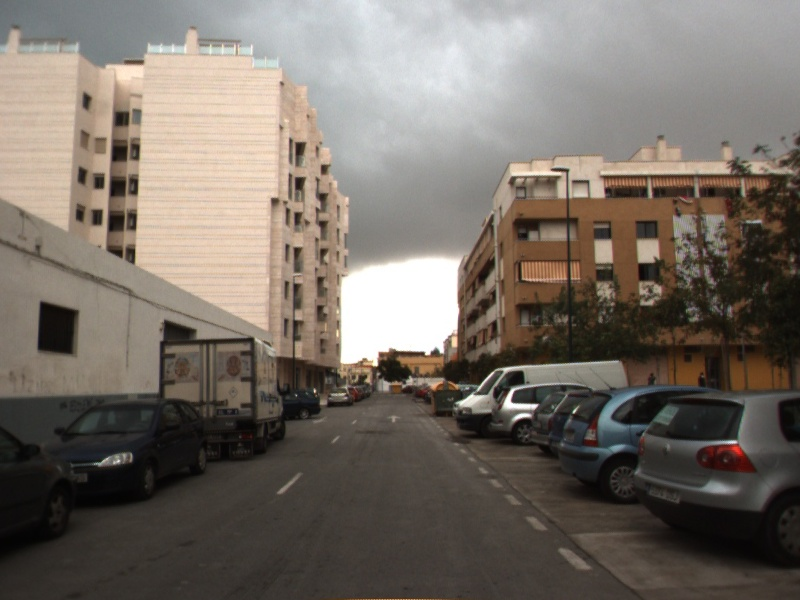STRAIGHT: (385, 413, 403, 425)
